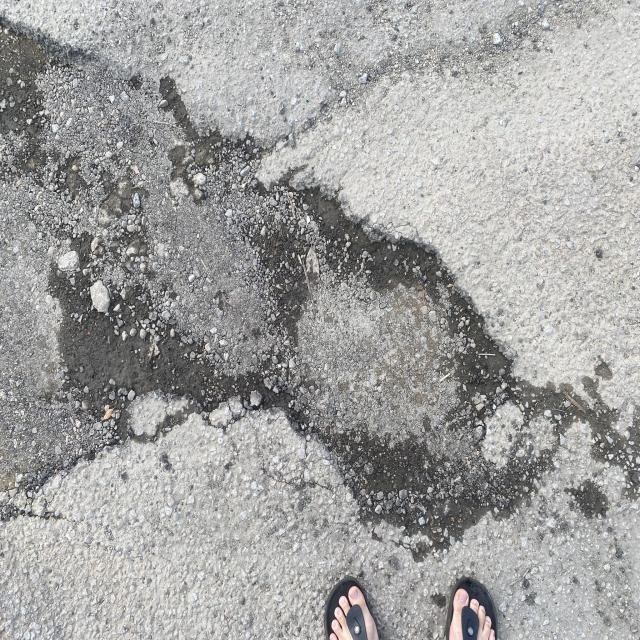pothole: (1, 6, 584, 567)
